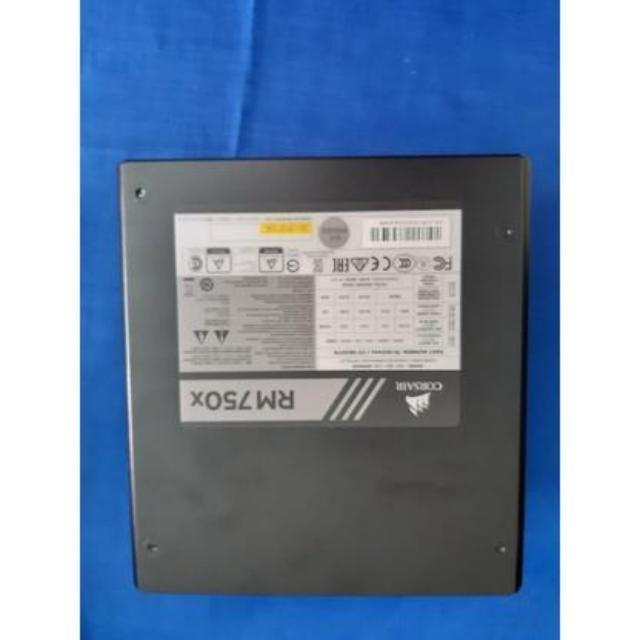PSU: (103, 149, 532, 611)
